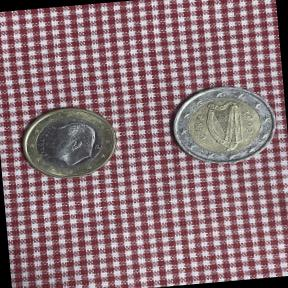1 Euro-B: (17, 101, 122, 184)
2 Euro-B: (164, 79, 282, 176)
